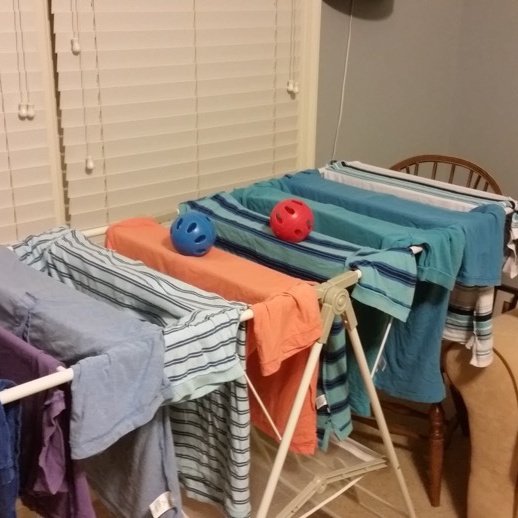ball: (168, 209, 218, 257), (268, 197, 315, 245)
